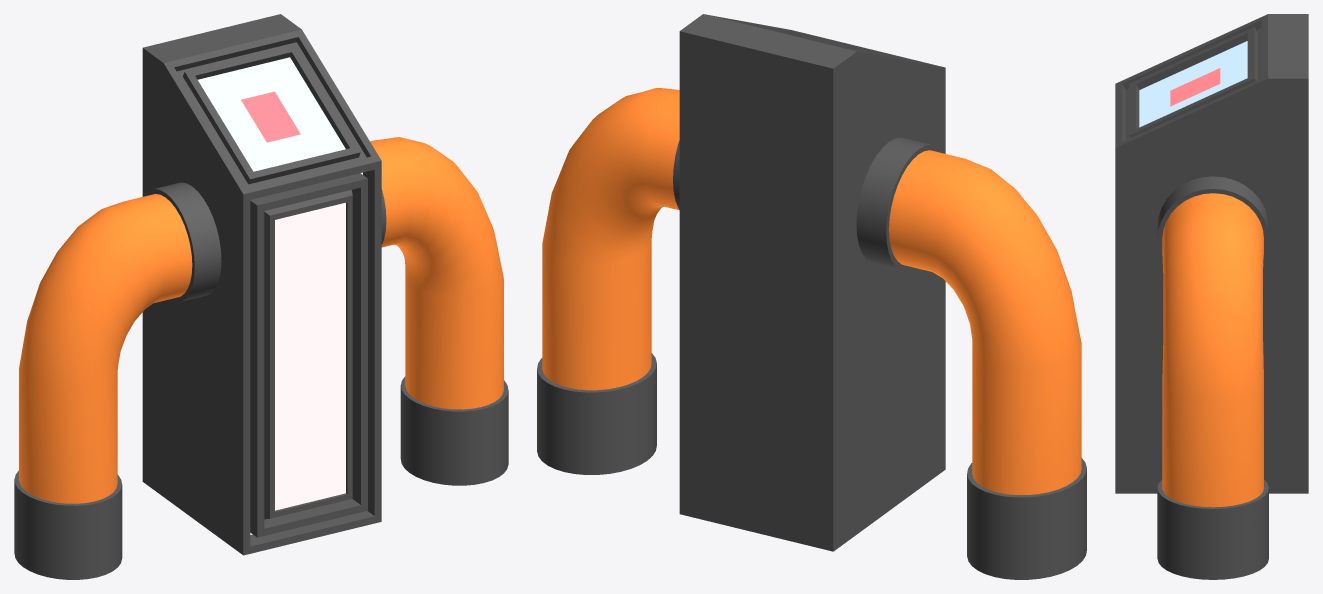
The model's file is MainMoitor.fbx.
The picture shows the model from 3 angles, left to right: view 1: azimuth 30°, elevation 25°; view 2: azimuth 150°, elevation 25°; view 3: azimuth 270°, elevation 25°; orthographic projection. The views are drawn at different scales.
Parts seen in each view (by area): view 1: Monitor, RigitPipe.001, RigitPipe; view 2: Monitor, RigitPipe.001, RigitPipe; view 3: Monitor, RigitPipe.
Part boxes in pixels (x1,y1,x2,y2): Monitor: (142, 14, 381, 555); RigitPipe.001: (14, 182, 221, 579); RigitPipe: (370, 137, 508, 485); Monitor: (679, 14, 945, 551); RigitPipe.001: (856, 137, 1086, 579); RigitPipe: (537, 88, 679, 474); Monitor: (1115, 14, 1308, 493); RigitPipe: (1157, 176, 1268, 579).
Size of the model in its own units: 1.75 by 1.54 by 0.6395.
